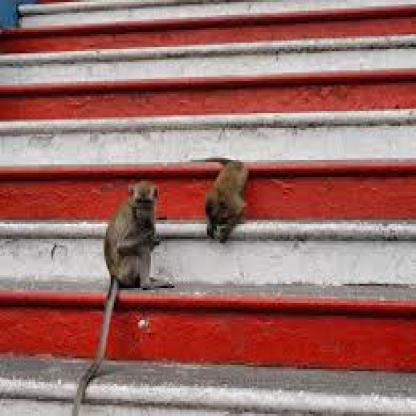monkey: (82, 179, 172, 324), (202, 152, 247, 243)
